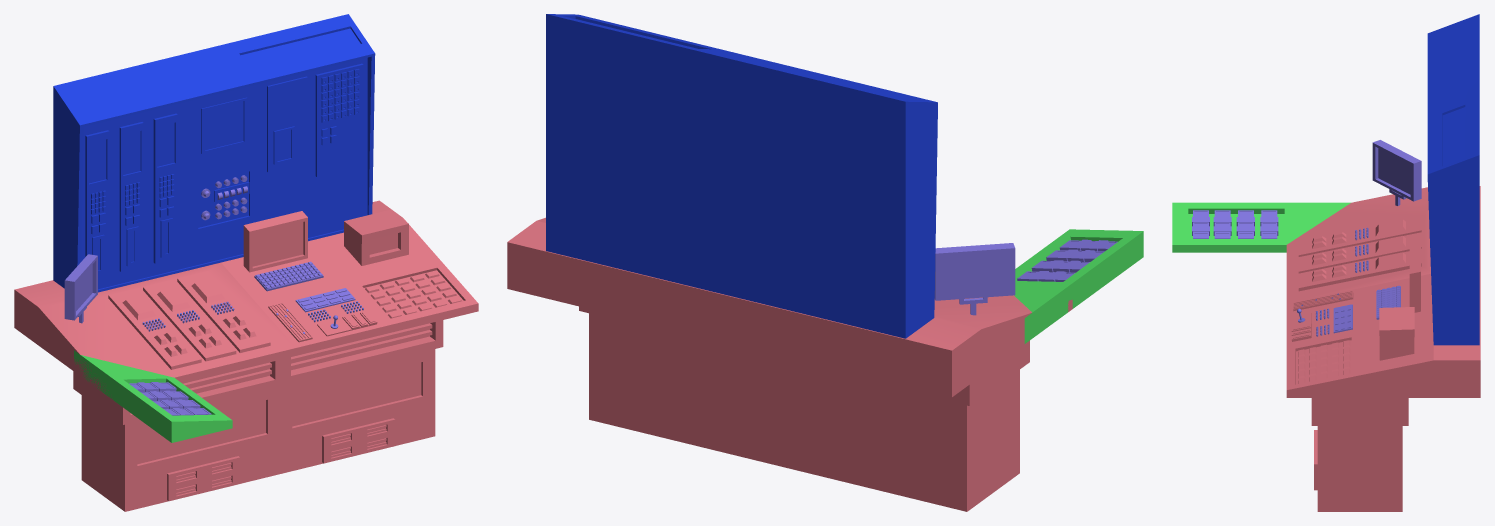
Rendered from MesaComandos.fbx.
3 views of the same model, side by side, from view 1: azimuth 30°, elevation 25°; view 2: azimuth 150°, elevation 25°; view 3: azimuth 270°, elevation 25° (orthographic). The views are drawn at different scales.
Parts seen in each view (by area): view 1: Cube.018, Cube.017, Cube.021, Cube.019; view 2: Cube.017, Cube.018, Cube.021, Cube.019; view 3: Cube.018, Cube.017, Cube.021, Cube.019.
Part boxes in pixels (x1=…): Cube.018: x1=14, y1=200, x2=478, y2=511; Cube.017: x1=53, y1=14, x2=375, y2=292; Cube.021: x1=64, y1=175, x2=363, y2=415; Cube.019: x1=74, y1=350, x2=232, y2=442; Cube.017: x1=546, y1=14, x2=937, y2=338; Cube.018: x1=507, y1=217, x2=1072, y2=511; Cube.021: x1=934, y1=239, x2=1117, y2=315; Cube.019: x1=1014, y1=229, x2=1143, y2=343; Cube.018: x1=1286, y1=186, x2=1480, y2=511; Cube.017: x1=1427, y1=14, x2=1479, y2=345; Cube.021: x1=1192, y1=140, x2=1421, y2=336; Cube.019: x1=1172, y1=202, x2=1350, y2=252.
Bounding box in the file's own units: 256 × 242 × 190.
